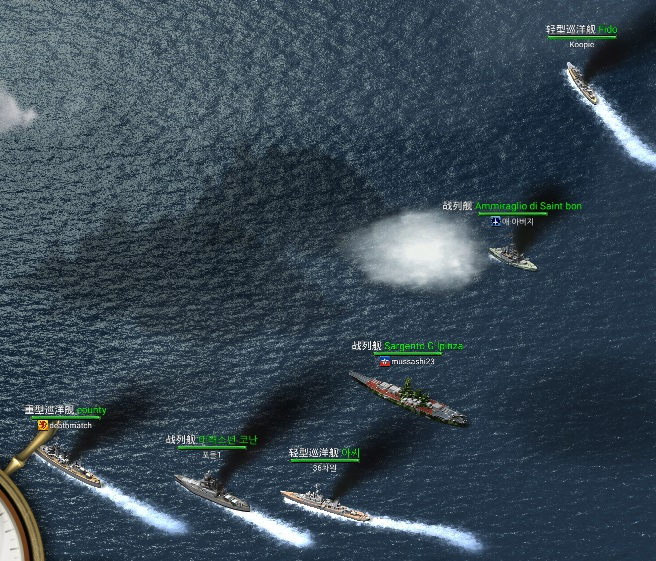ship: (343, 369, 468, 426), (173, 473, 255, 515), (280, 486, 372, 522), (37, 447, 106, 489), (565, 57, 598, 109), (489, 242, 539, 271)
